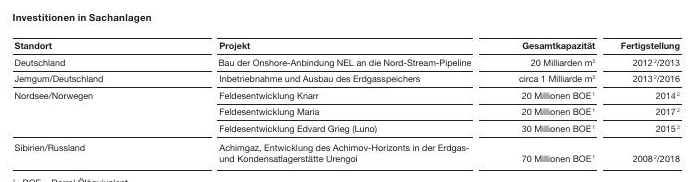table: (0, 0, 692, 182)
